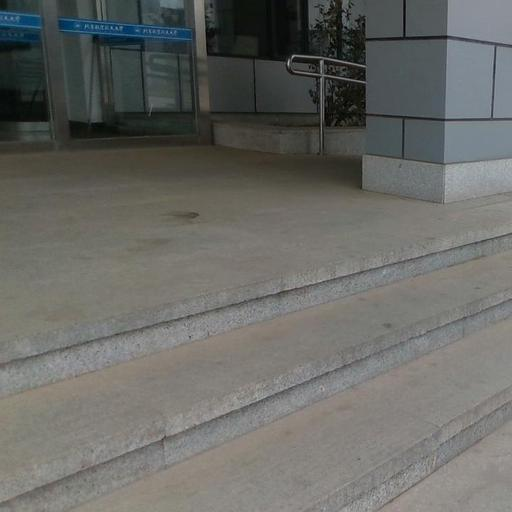stairs: (0, 234, 511, 511)
